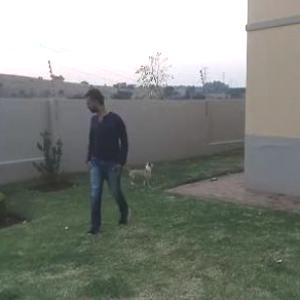follow: (85, 84, 134, 231)
